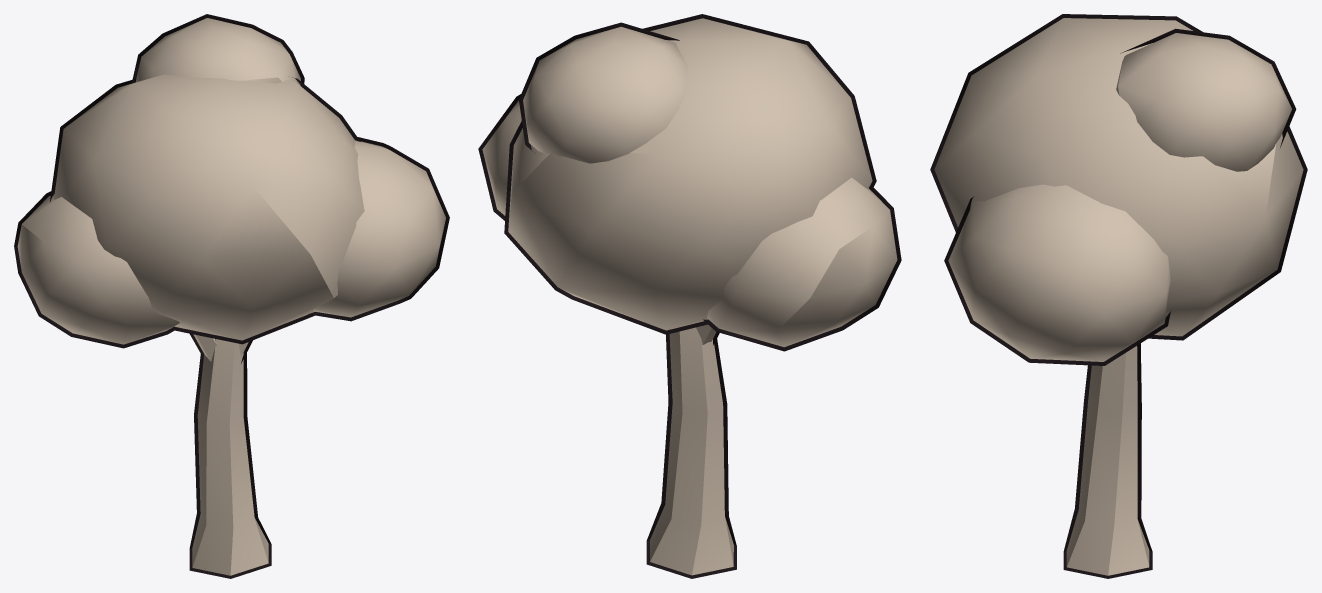
Rendered from SM_Tree_06.fbx.
3 renders of one model, left to right at view 1: azimuth 30°, elevation 25°; view 2: azimuth 150°, elevation 25°; view 3: azimuth 270°, elevation 25°, orthographic. The views are drawn at different scales.
Parts seen in each view (by area): view 1: SM_Tree_06; view 2: SM_Tree_06; view 3: SM_Tree_06.
Boxes of the visible parts, left/top/right/bottom form: SM_Tree_06: left=14, top=14, right=449, bottom=578; SM_Tree_06: left=478, top=14, right=901, bottom=578; SM_Tree_06: left=930, top=14, right=1307, bottom=578.
Bounding box in the file's own units: 4 × 4.97 × 3.16.
